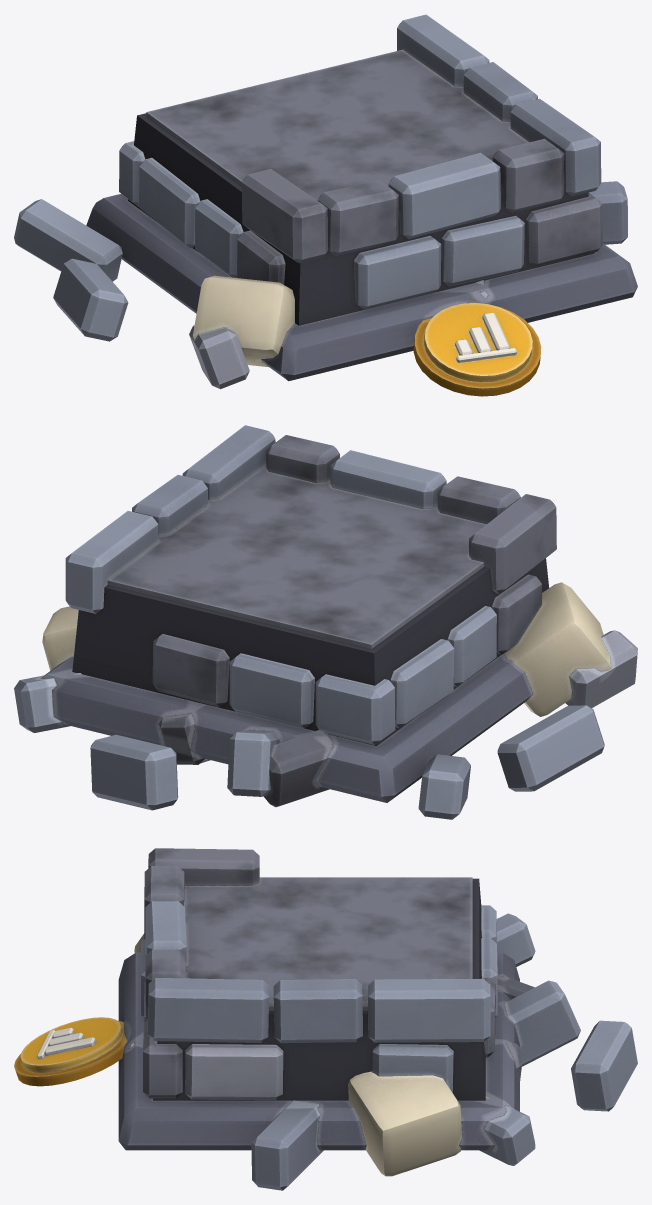
The model's file is tower_rig_ruin.glb.
3 renders of one model, top to bottom at view 1: azimuth 30°, elevation 25°; view 2: azimuth 150°, elevation 25°; view 3: azimuth 270°, elevation 25°, orthographic. The views are drawn at different scales.
Parts seen in each view (by area): view 1: body; view 2: body; view 3: body.
Boxes of the visible parts, x1,y1,x2,y2 form: body: (14,14,637,396); body: (14,425,637,819); body: (14,848,637,1190).
Bounding box in the file's own units: 4.47 × 1.44 × 4.72.
Materials: 1 (1 with a texture image).
